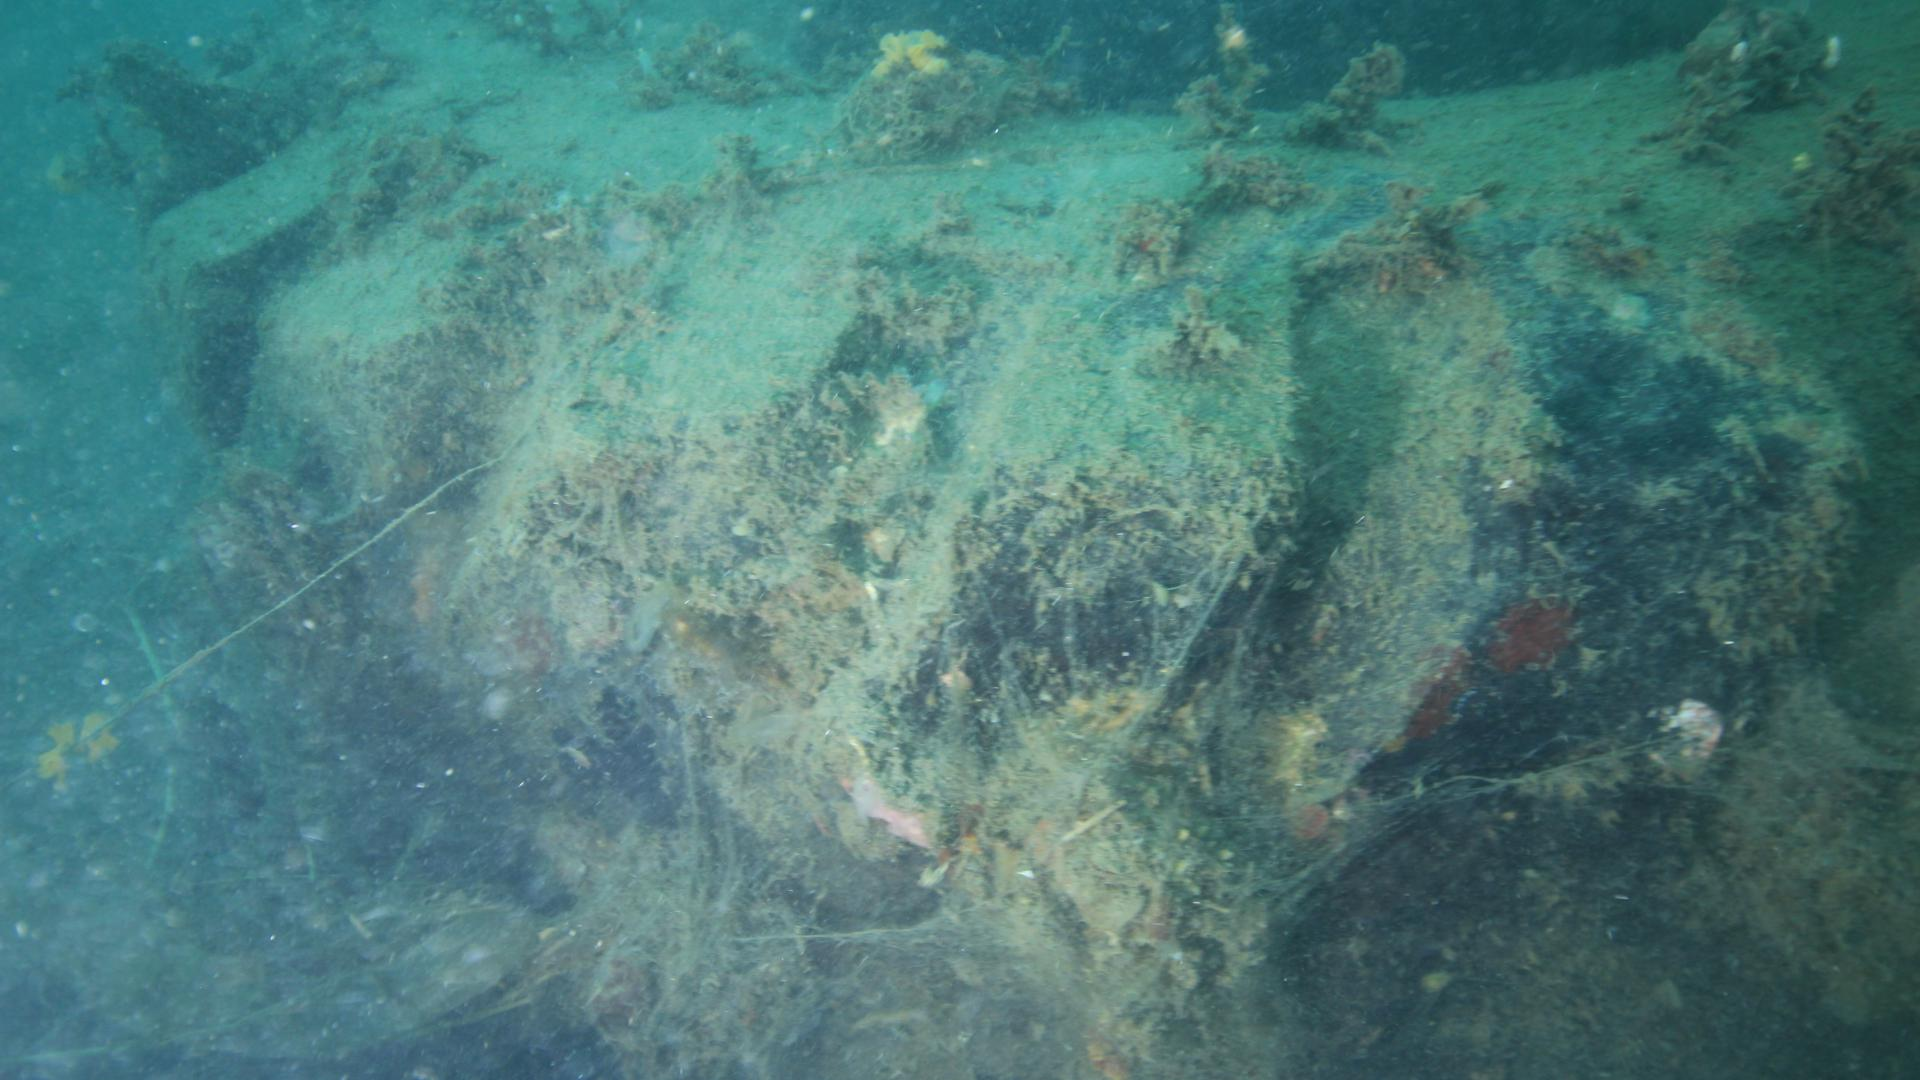tire: (133, 1, 1920, 861)
